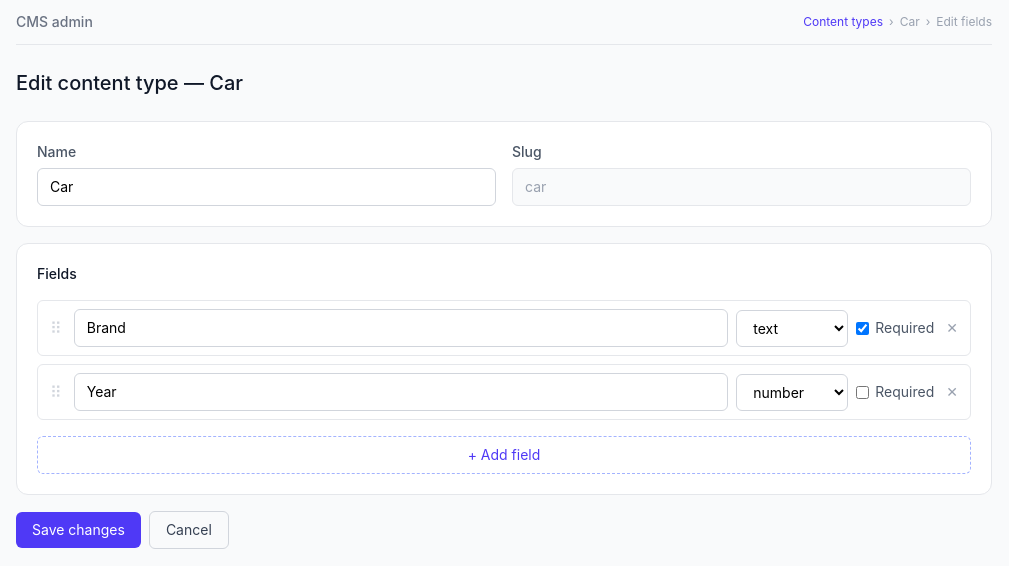
Scenario: EditContentType › shows target content type dropdown when field type is reference
Check: the 1st field showing "Brand" is shown, box [74, 309, 728, 347]
Select "reference" in the 1st dropdown: (792, 328) [736, 310, 848, 346]
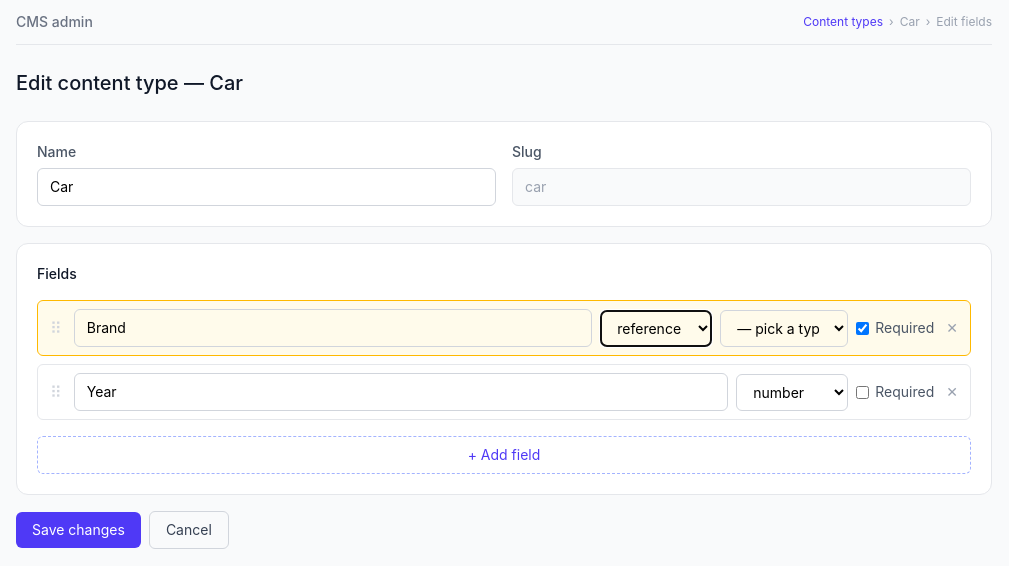
Check: the dropdown named "references" is shown, box [720, 310, 848, 346]
